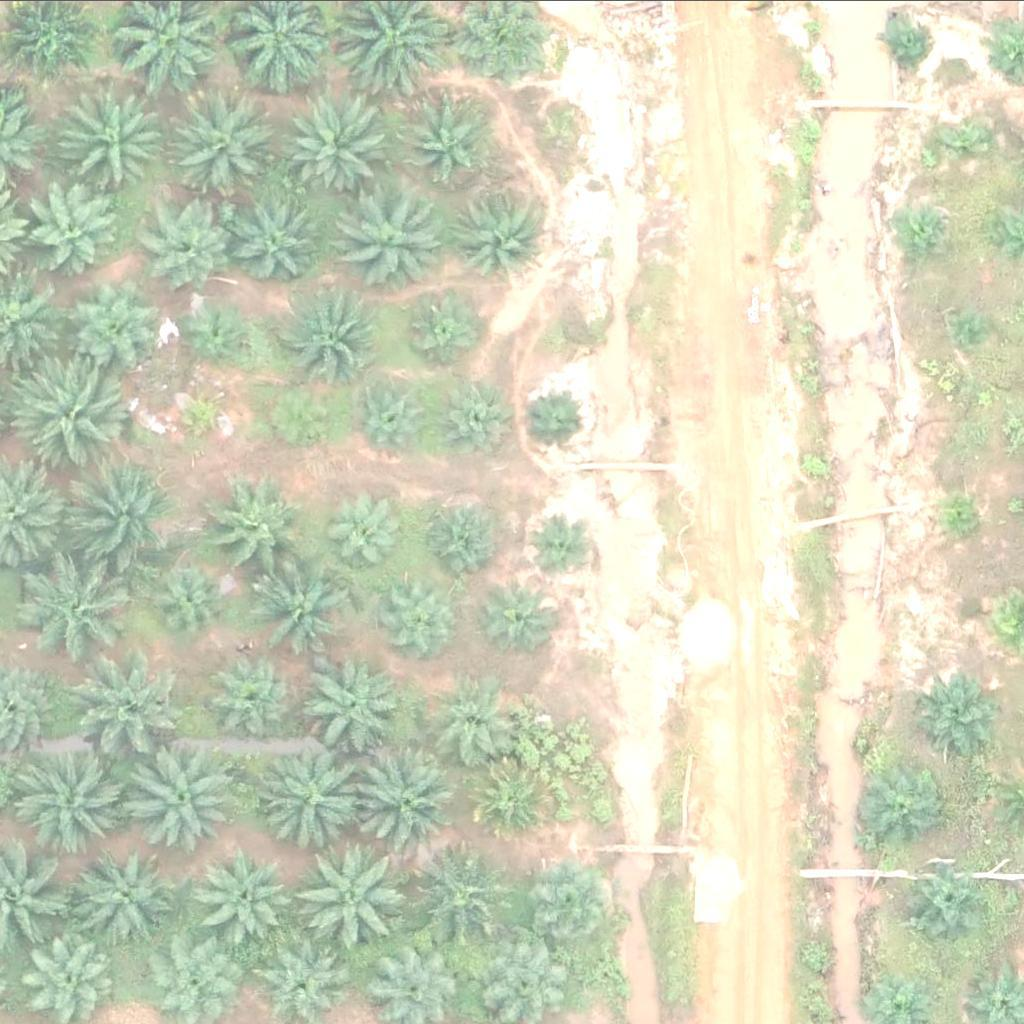Kelapa_Sawit: (122, 746, 236, 859), (349, 741, 462, 854), (253, 749, 366, 862), (57, 461, 171, 573), (18, 744, 132, 856), (295, 842, 409, 954), (12, 360, 125, 472), (63, 650, 176, 762), (68, 90, 169, 190), (180, 95, 281, 195), (288, 99, 389, 199), (61, 271, 162, 371), (209, 479, 310, 579), (258, 565, 359, 665), (30, 565, 131, 665), (306, 655, 407, 755), (74, 849, 175, 949), (411, 847, 512, 947), (275, 280, 376, 380), (340, 188, 440, 288), (903, 861, 991, 949), (148, 203, 236, 291), (431, 378, 519, 466), (469, 759, 557, 847), (147, 556, 235, 644), (207, 849, 295, 937), (235, 201, 324, 288), (859, 761, 947, 848), (406, 94, 494, 181), (455, 192, 543, 279), (28, 186, 116, 273), (350, 369, 438, 456), (216, 652, 304, 739), (436, 675, 524, 762), (528, 859, 616, 946), (26, 935, 114, 1022), (927, 677, 1003, 752), (333, 498, 409, 573), (421, 496, 497, 571), (181, 297, 257, 372), (268, 378, 344, 453), (403, 290, 478, 365), (388, 578, 463, 653), (488, 580, 563, 655), (529, 519, 592, 582), (525, 387, 588, 449), (169, 384, 232, 446), (879, 20, 929, 70), (942, 117, 992, 167), (896, 209, 946, 259), (957, 312, 995, 350), (941, 499, 979, 536)
